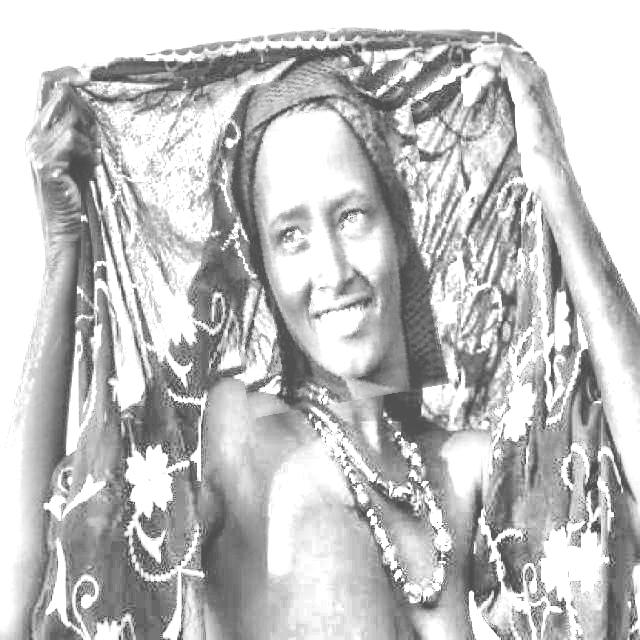happy: (208, 67, 446, 411)
